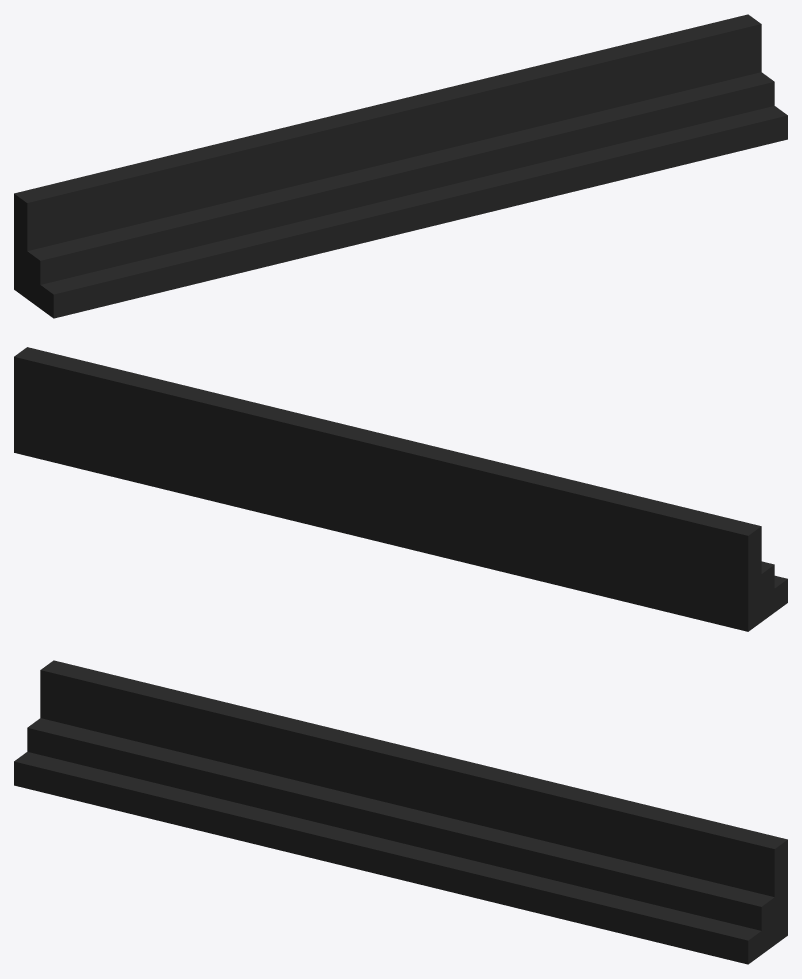
The model's file is ozdobnik_do_budynek_uni.dae.
3 views of the same model, one above another, from view 1: azimuth 30°, elevation 25°; view 2: azimuth 150°, elevation 25°; view 3: azimuth 330°, elevation 25° (orthographic).
Parts seen in each view (by area): view 1: Content; view 2: Content; view 3: Content.
Boxes of the visible parts, x1,y1,x2,y2 form: Content: (14,14,787,318); Content: (14,347,787,631); Content: (14,660,787,964).
Bounding box in the file's own units: 32 × 4 × 3.
1 material, 1 textured.
